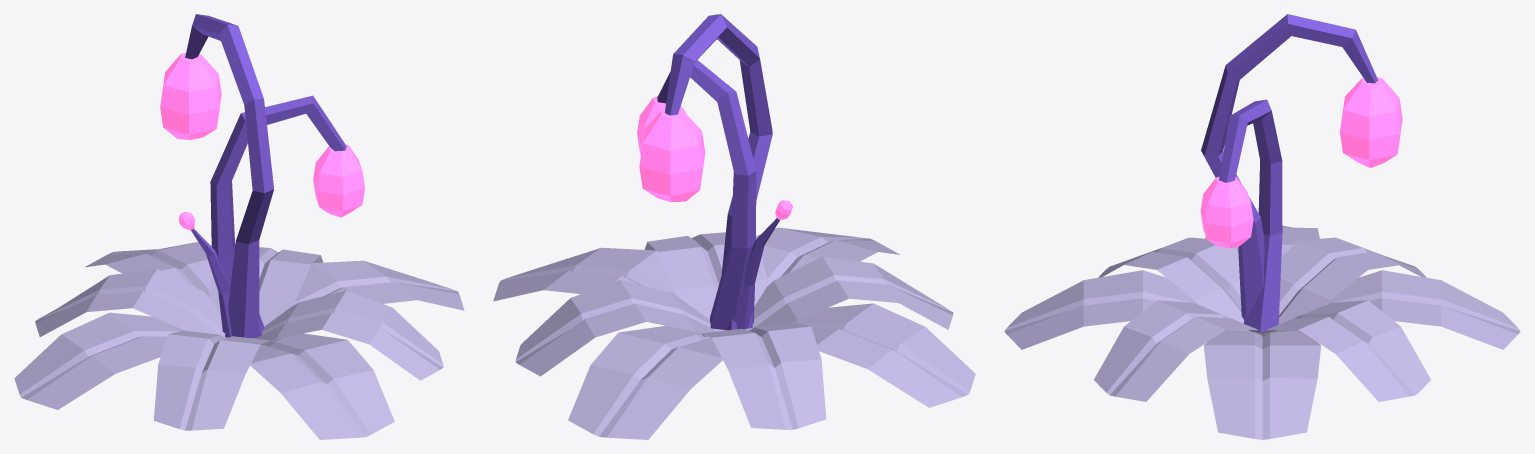
The model's file is props_CenarioJogo.glb.
The picture shows the model from 3 angles, left to right: view 1: azimuth 30°, elevation 25°; view 2: azimuth 150°, elevation 25°; view 3: azimuth 270°, elevation 25°; orthographic projection. The views are drawn at different scales.
Parts seen in each view (by area): view 1: folha.001, Caule.001, Caule, Bulbo.002; view 2: folha.001, Caule.001, Caule, Bulbo.002; view 3: folha.001, Caule.001, Caule.
Boxes of the visible parts, x1,y1,x2,y2 form: folha.001: (14, 242, 464, 439); Caule.001: (160, 14, 273, 338); Caule: (210, 95, 364, 337); Bulbo.002: (179, 212, 231, 336); folha.001: (493, 227, 975, 439); Caule.001: (639, 14, 772, 330); Caule: (637, 60, 756, 330); Bulbo.002: (735, 200, 793, 329); folha.001: (1004, 226, 1520, 439); Caule.001: (1201, 14, 1402, 319); Caule: (1200, 99, 1282, 331).
Bounding box in the file's own units: 1.62 × 1.12 × 1.62.
